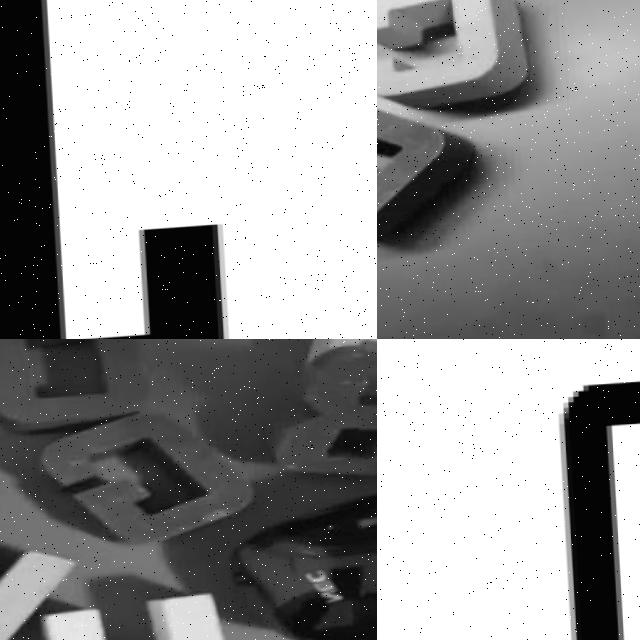0: (554, 362, 640, 640)
B: (273, 340, 377, 499)
C: (377, 0, 538, 116)
G: (37, 413, 255, 553), (377, 104, 470, 249)
H: (26, 586, 264, 640)
J: (0, 0, 234, 339)
O: (0, 339, 146, 431)
